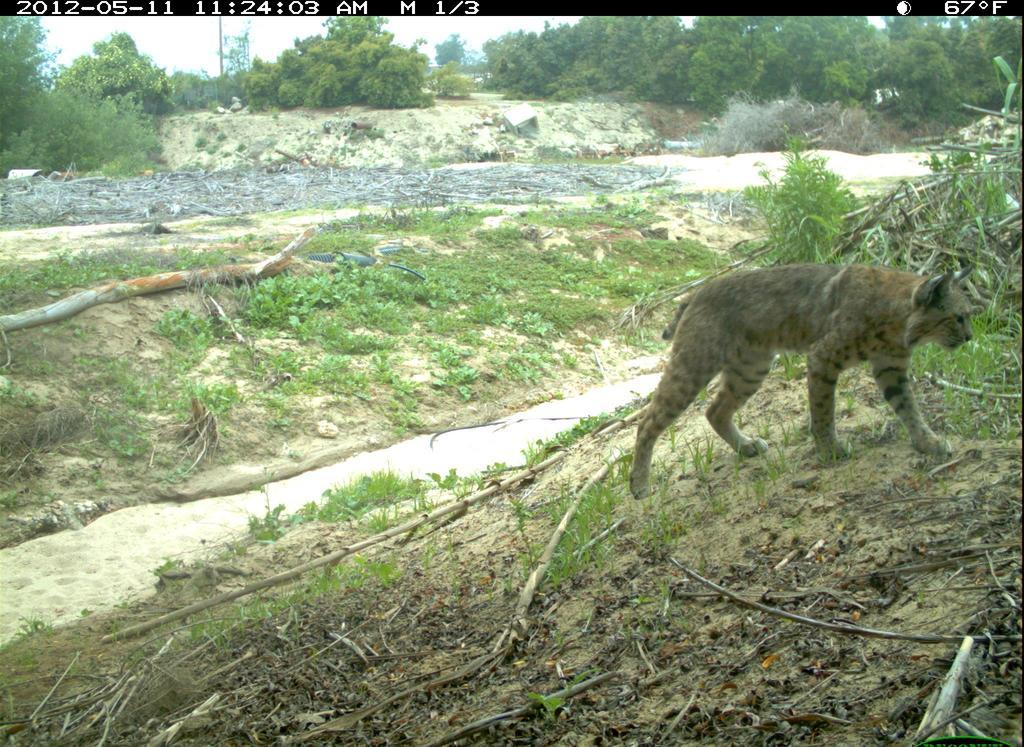bobcat: (619, 250, 987, 504)
